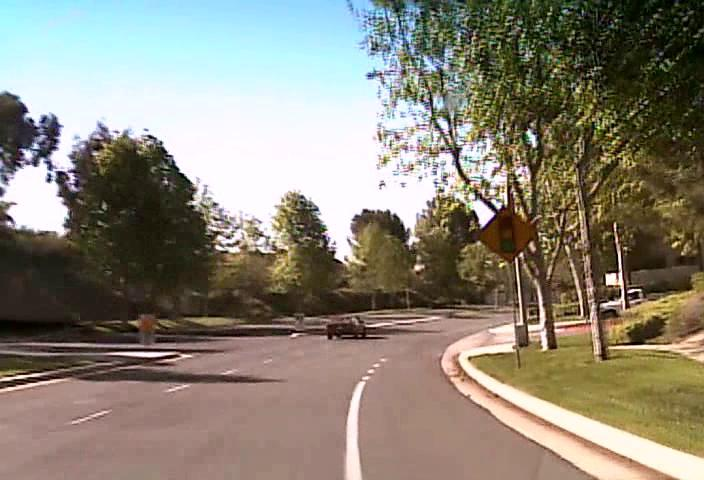signalAhead: (475, 204, 537, 263)
